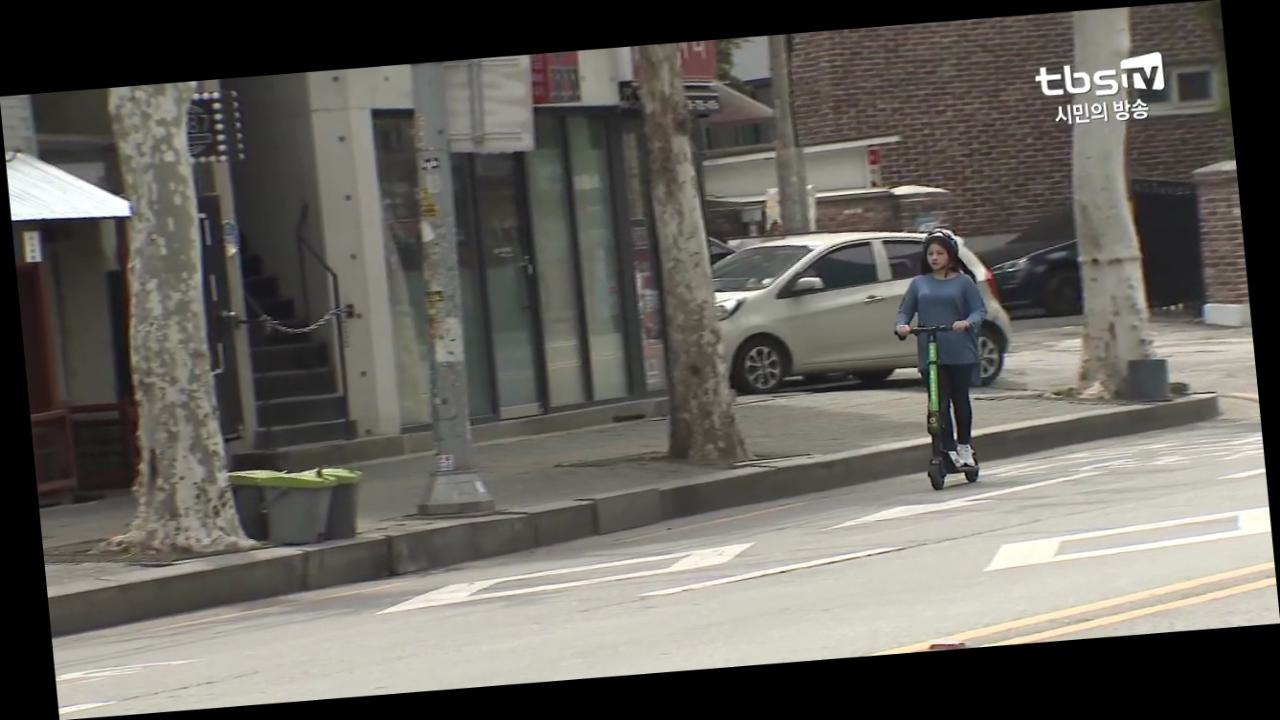helmet: (883, 222, 1006, 492)
